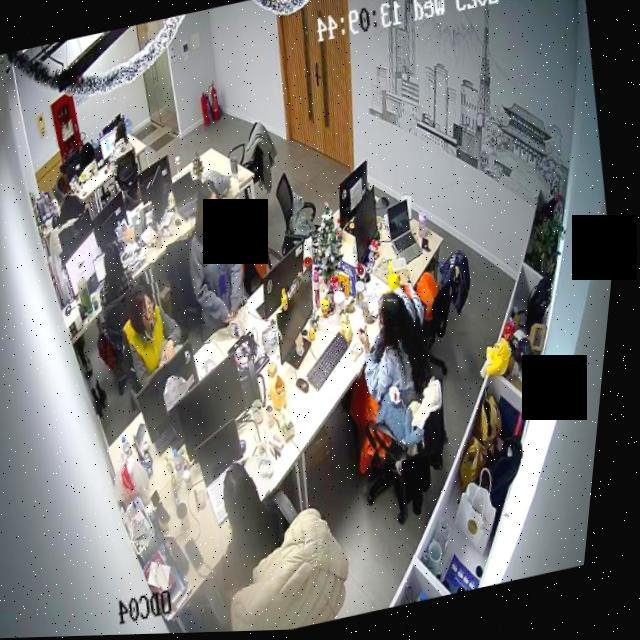person: (337, 285, 466, 473), (167, 172, 270, 349), (213, 454, 306, 593), (116, 278, 203, 391), (95, 240, 150, 308), (43, 170, 94, 233), (106, 116, 142, 167)
